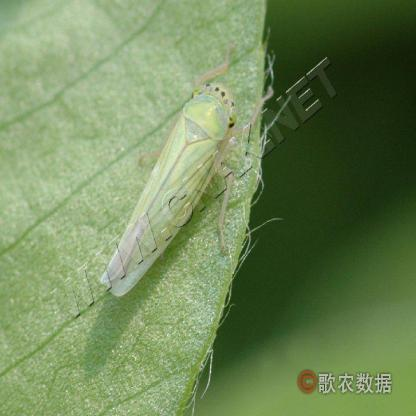Green-Leafhopper: (98, 82, 238, 296)
